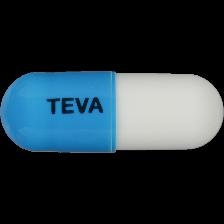66267-126: (0, 0, 224, 224)
